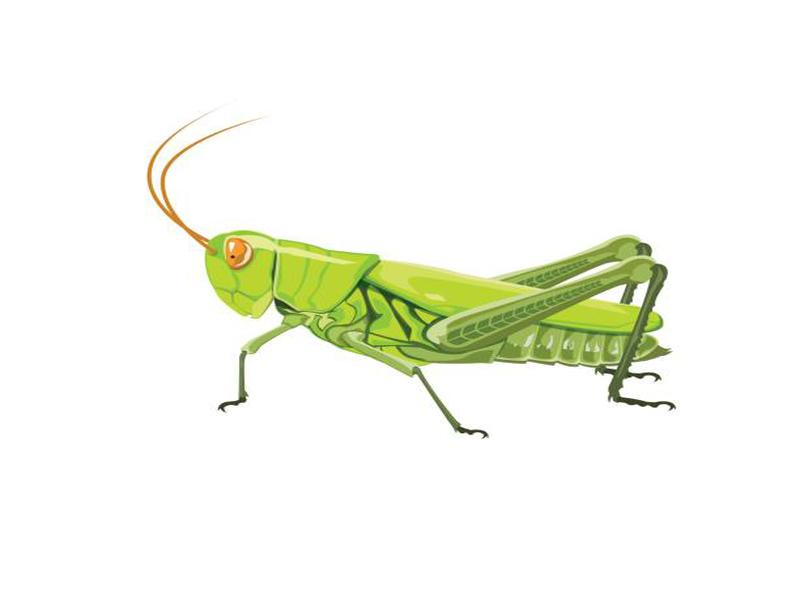Grasshopper: (142, 148, 700, 452)
